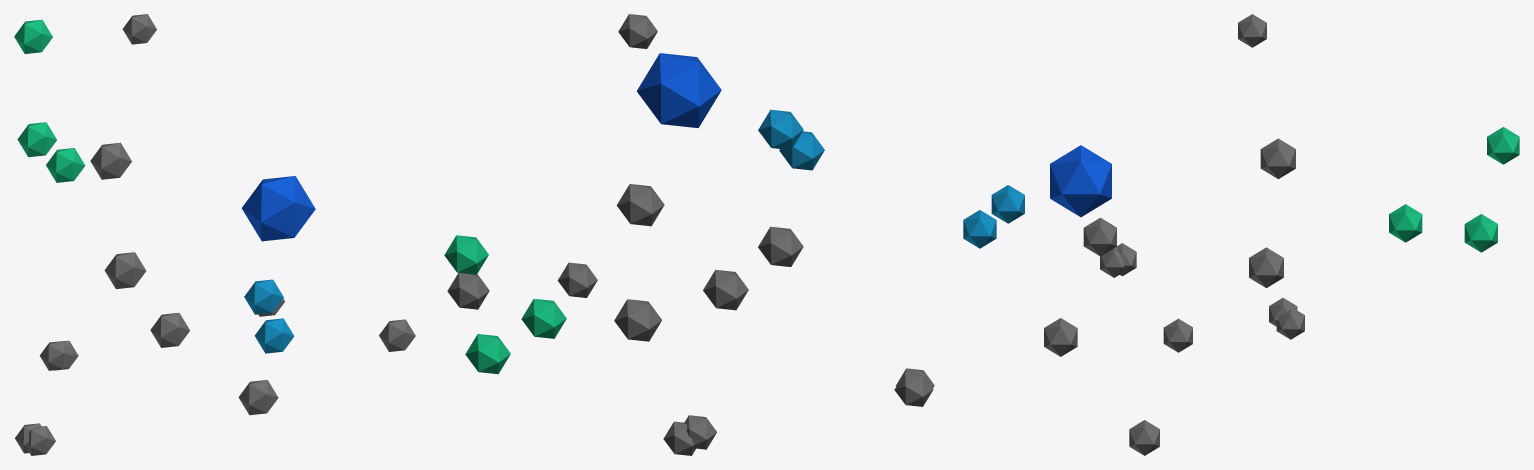
3 views of the same model, side by side, from view 1: azimuth 30°, elevation 25°; view 2: azimuth 150°, elevation 25°; view 3: azimuth 270°, elevation 25° (orthographic). The views are drawn at different scales.
Visible parts, largest first — view 1: 05_08_07; view 2: 05_08_07; view 3: 05_08_07.
Boxes of the visible parts, x1,y1,x2,y2 form: 05_08_07: (14, 14, 415, 455); 05_08_07: (444, 14, 934, 455); 05_08_07: (963, 14, 1519, 455).
Bounding box in the file's own units: 0.4819 × 0.403 × 0.5869.
